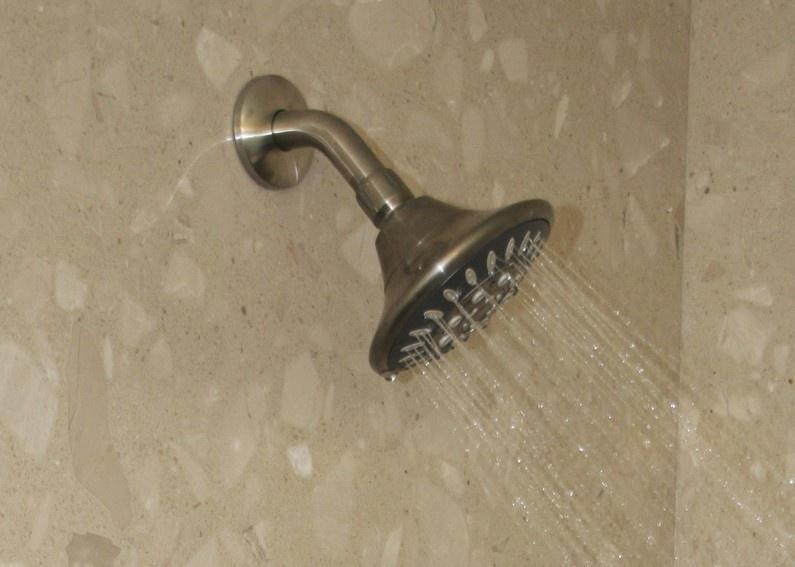Ducha: (217, 58, 794, 566)
